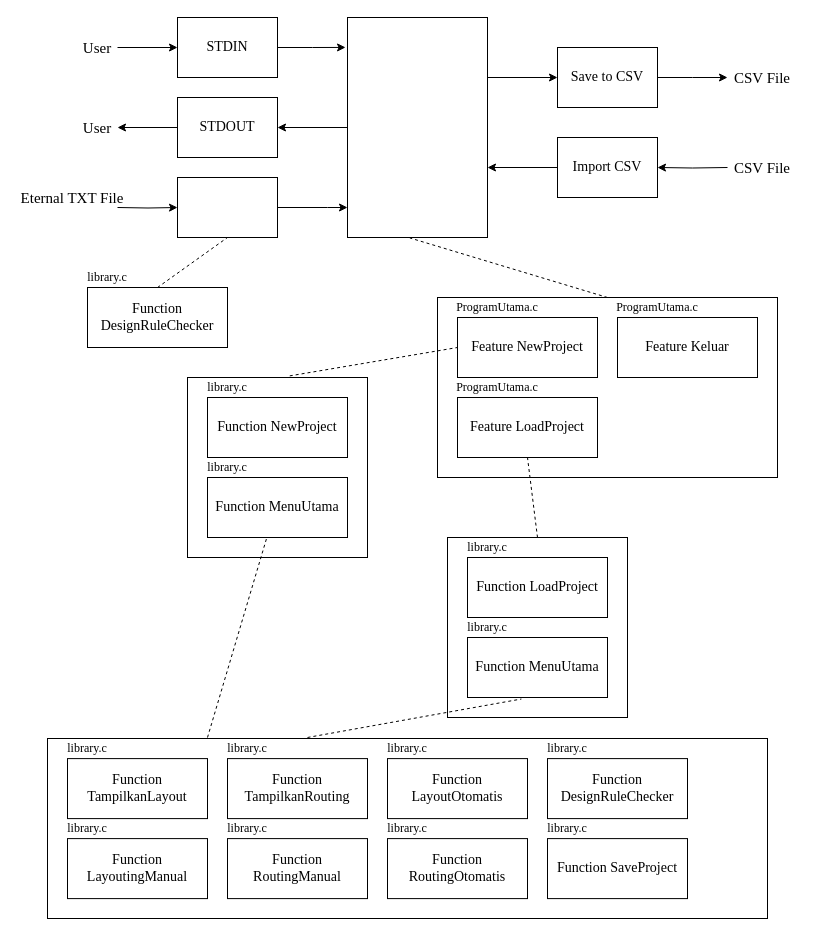
Image size: 824x936. Some labels were removed from this diagram. Each missing label, with the centre of its shape:
Main Program: point (417, 127)
Rule File Handler: point (227, 207)
